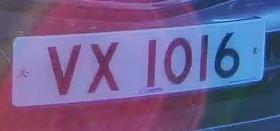0: (159, 31, 197, 86)
1: (193, 25, 215, 85), (143, 34, 162, 91)
6: (209, 27, 244, 84)
V: (42, 37, 84, 101)
X: (83, 34, 127, 100)
